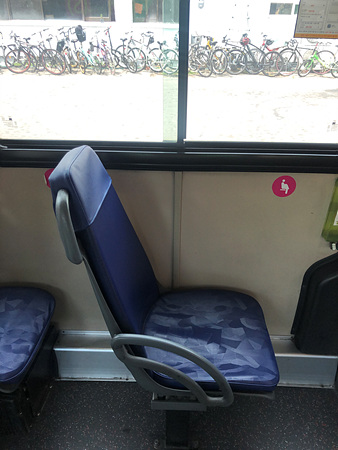seat: (49, 146, 284, 404)
